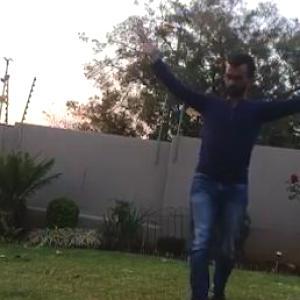takeoff: (127, 30, 299, 299)
